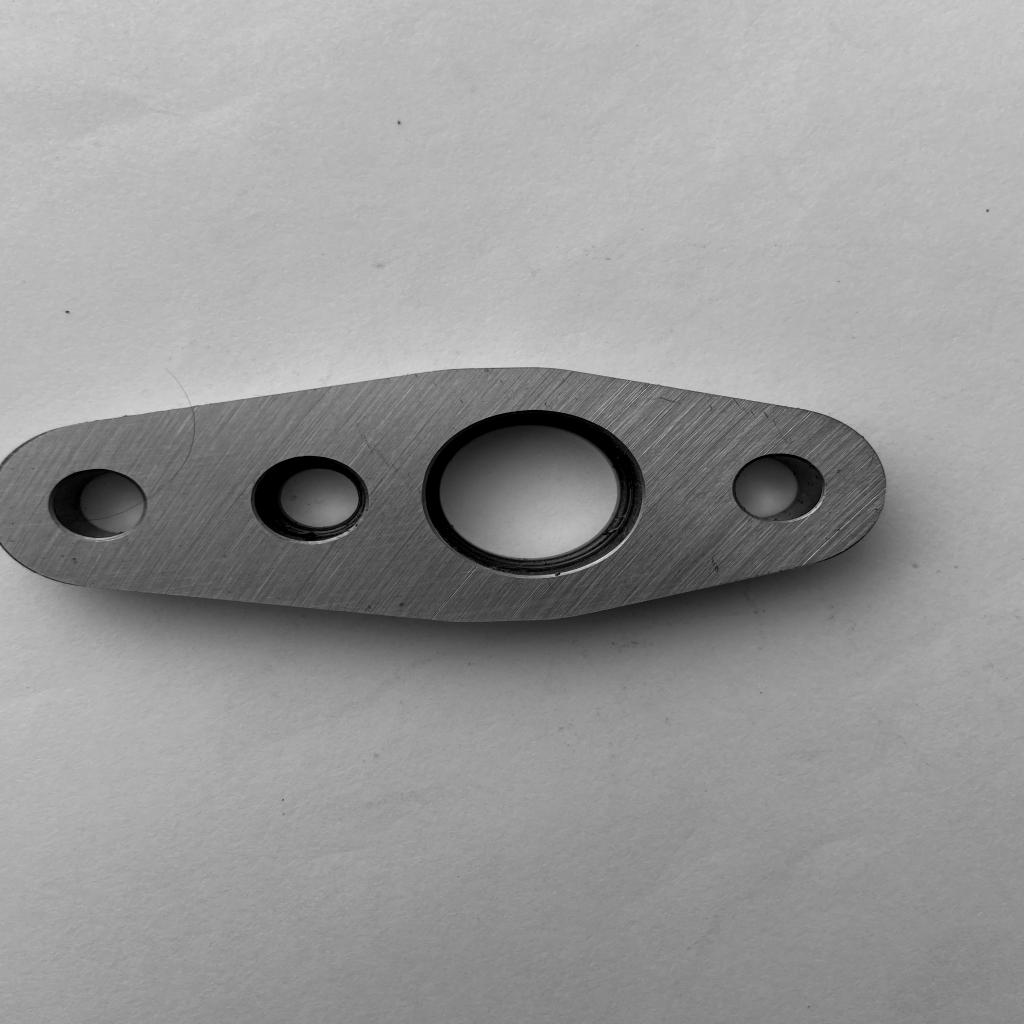lines: (732, 400, 790, 446), (356, 424, 396, 467), (654, 392, 682, 408), (704, 554, 723, 577)
